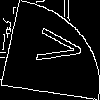V: (25, 25, 85, 68)
